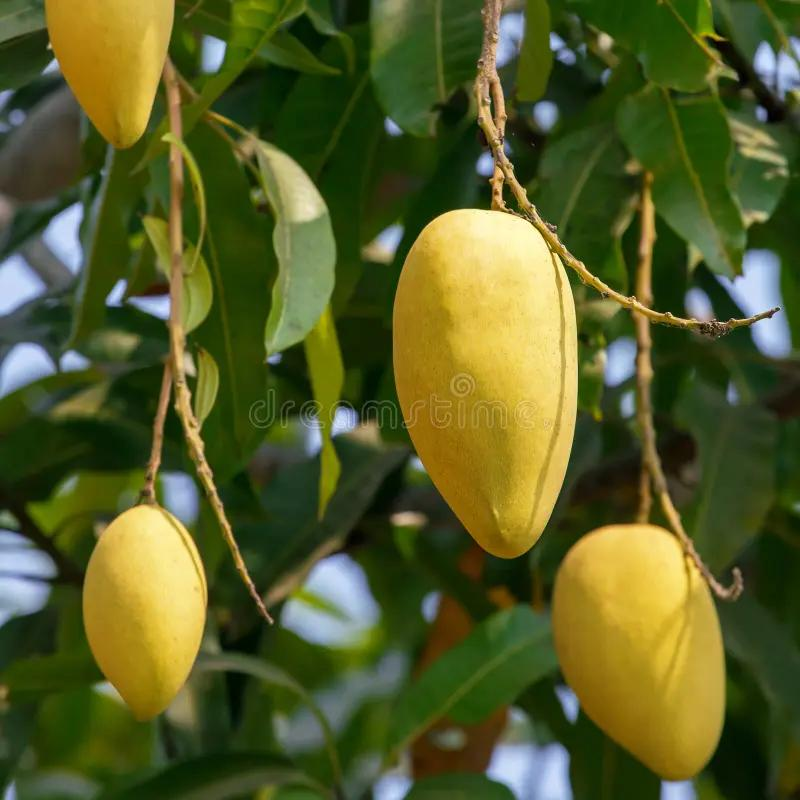mango: (378, 204, 615, 567), (552, 518, 758, 790), (72, 496, 220, 723)
